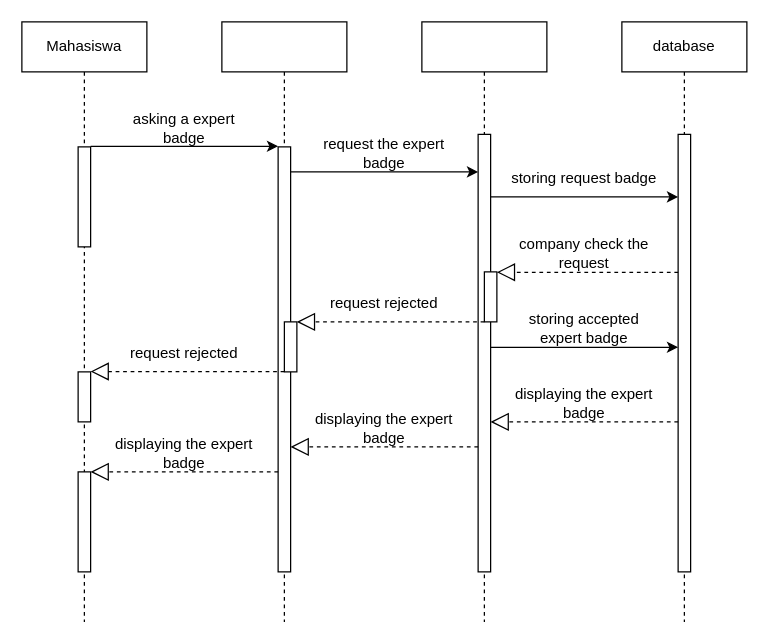
Some shapes in this 769 by 644 pixel diagram are drawn without their labels. The shapes that lost their labels are listed below. From the top down, each one's centre as x and y in pixels, then its label:
At [284,321]: "Badge Expert".
At [484,321]: "system".
